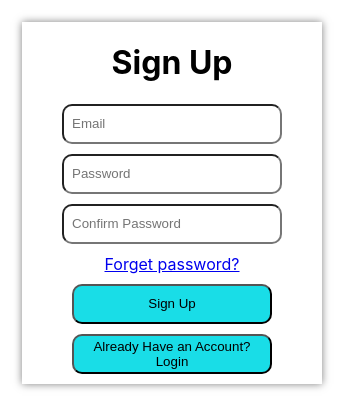
Test: SignUp Component › renders sign-up form text after toggling back
Click the button "Already Have an Account?Login": (172, 354) [72,334,272,374]
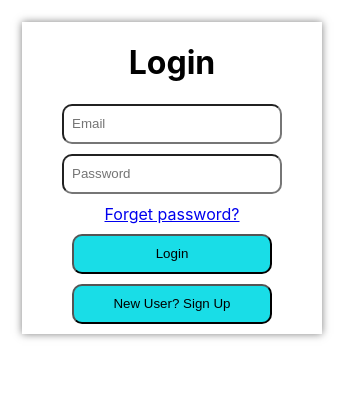
Click the button "New User? Sign Up": (172, 304) [72,284,272,324]
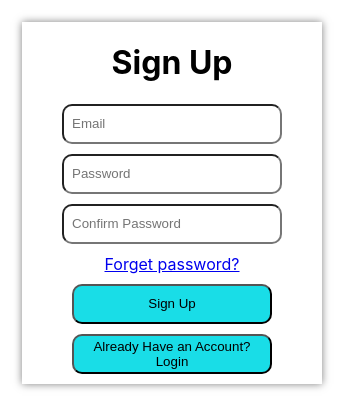
Now the heading "Sign Up" is shown, box [112,43,232,82]
Now the password field with placeholder "Confirm Password" is shown, box [62,204,282,244]
